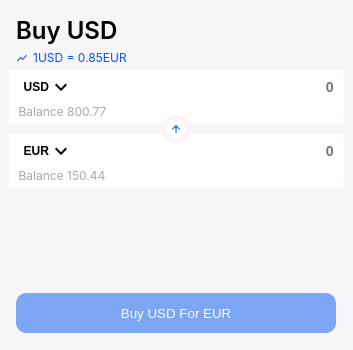
it: should switch operation correctly:
Expected: the text "buy USD" is shown, left=16, top=16, right=117, bottom=45
Click the button with test id "switch-btn" at (176, 129), box left=162, top=115, right=190, bottom=143
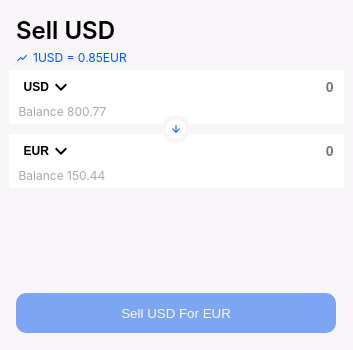
Expected: the text "sell USD" is shown, left=16, top=16, right=115, bottom=45
